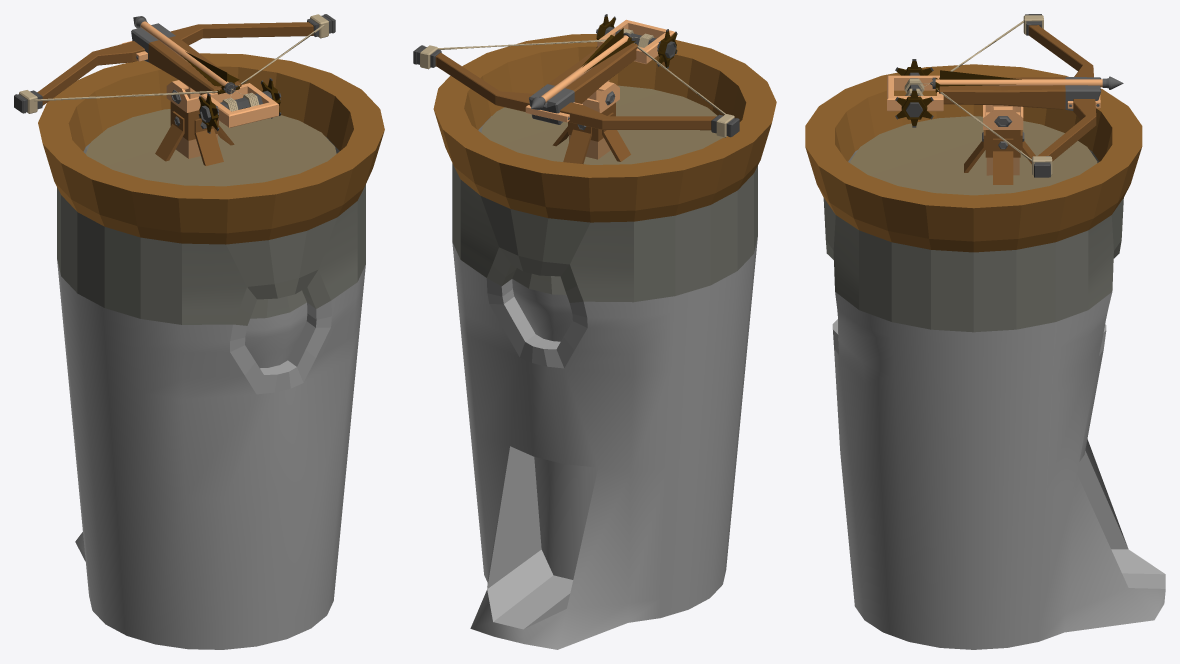
File: ballista tower.fbx
The picture shows the model from 3 angles, left to right: view 1: azimuth 30°, elevation 25°; view 2: azimuth 150°, elevation 25°; view 3: azimuth 270°, elevation 25°; orthographic projection.
Visible parts, largest first — view 1: pCylinder13, BOW, Main Joint, Main Bit, Back Frame, Arrow, Back Turning Gear; view 2: pCylinder13, BOW, Main Joint, Main Bit, Arrow, Back Frame, Back Turning Gear; view 3: pCylinder13, BOW, Main Bit, Main Joint, Arrow, Back Turning Gear, Back Frame.
Boxes of the visible parts, x1,y1,x2,y2 form: pCylinder13: (38, 53, 384, 649); BOW: (14, 14, 335, 113); Main Joint: (155, 79, 234, 165); Main Bit: (131, 23, 241, 94); Back Frame: (200, 83, 278, 127); Arrow: (133, 16, 239, 94); Back Turning Gear: (198, 78, 281, 133); pCylinder13: (433, 34, 776, 649); BOW: (413, 39, 739, 137); Main Joint: (552, 80, 630, 164); Main Bit: (529, 43, 637, 124); Arrow: (531, 28, 635, 109); Back Frame: (597, 19, 674, 63); Back Turning Gear: (596, 14, 677, 68); pCylinder13: (805, 64, 1165, 649); BOW: (936, 14, 1100, 177); Main Bit: (939, 77, 1101, 110); Main Joint: (964, 105, 1035, 184); Arrow: (932, 70, 1123, 89); Back Turning Gear: (895, 59, 933, 127); Back Frame: (887, 75, 943, 111).
Size of the model in its own units: 6.45 by 10.42 by 6.45.
